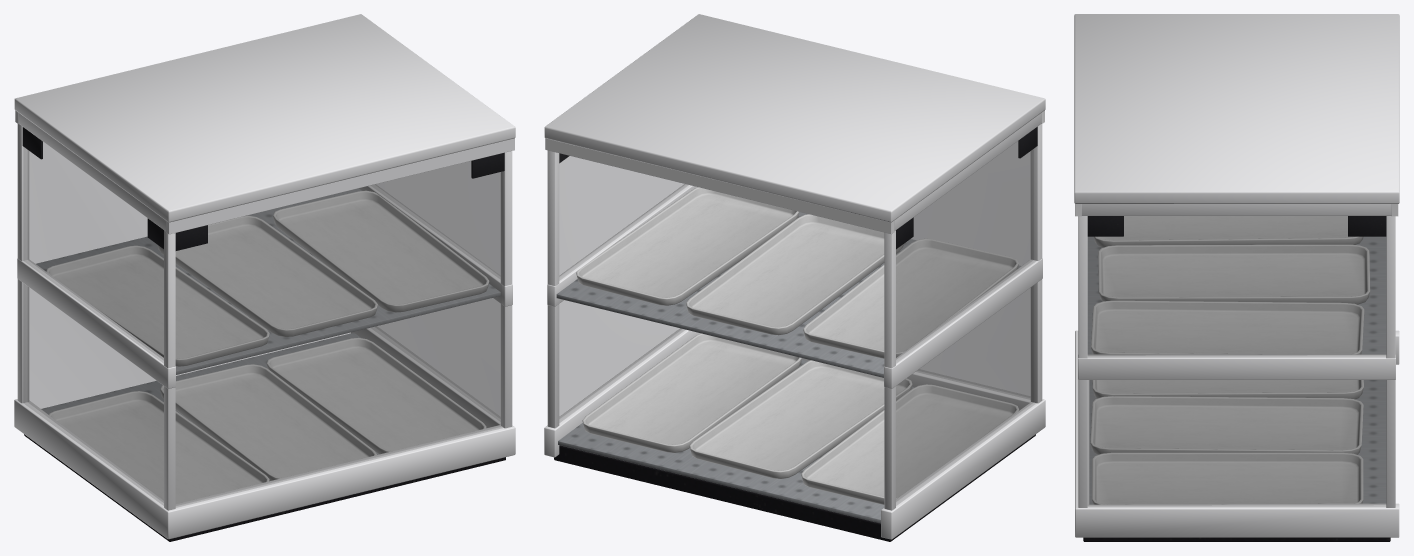
Rendered from StallProp_D.fbx.
3 views of the same model, side by side, from view 1: azimuth 30°, elevation 25°; view 2: azimuth 150°, elevation 25°; view 3: azimuth 270°, elevation 25° (orthographic). The views are drawn at different scales.
Visible parts, largest first — view 1: StallProp_D; view 2: StallProp_D; view 3: StallProp_D.
Boxes of the visible parts, box(x1,y1,x2,y2) form: StallProp_D: box(14, 14, 515, 541); StallProp_D: box(544, 14, 1045, 541); StallProp_D: box(1074, 14, 1399, 541).
Size of the model in its own units: 1.19 by 1.1 by 0.9158.
